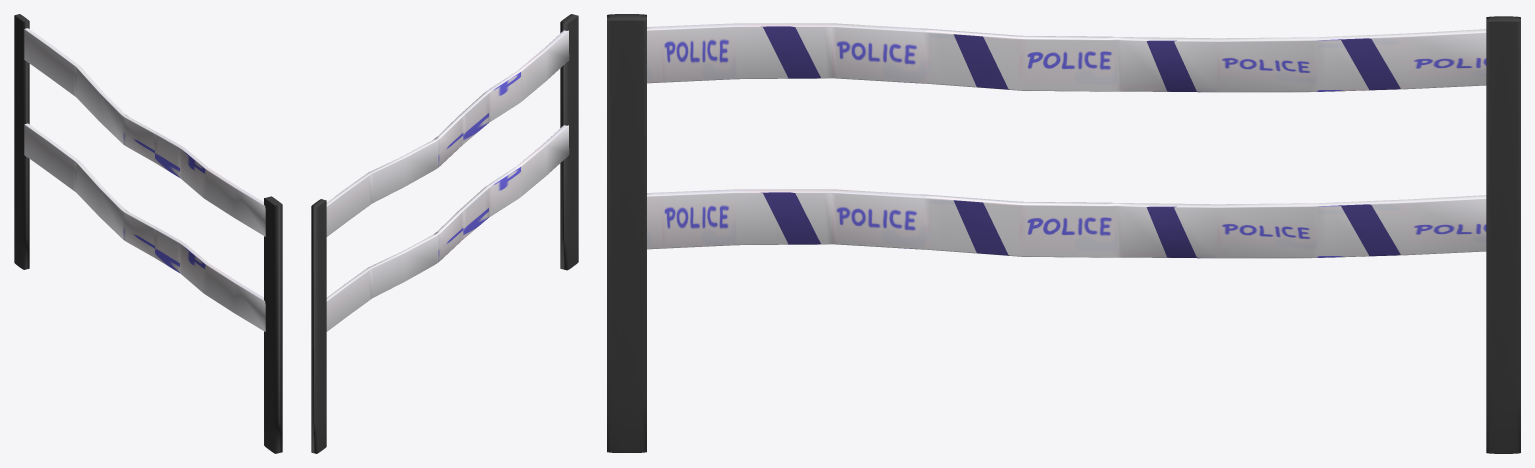
File: fence.fbx
3 views of the same model, side by side, from view 1: azimuth 30°, elevation 25°; view 2: azimuth 150°, elevation 25°; view 3: azimuth 270°, elevation 25° (orthographic). The views are drawn at different scales.
Visible parts, largest first — view 1: Cube.003; view 2: Cube.003; view 3: Cube.003.
Boxes of the visible parts, x1,y1,x2,y2 form: Cube.003: (14, 14, 282, 453); Cube.003: (311, 14, 578, 453); Cube.003: (607, 14, 1520, 453).
Bounding box in the file's own units: 13.44 × 215 × 409.
